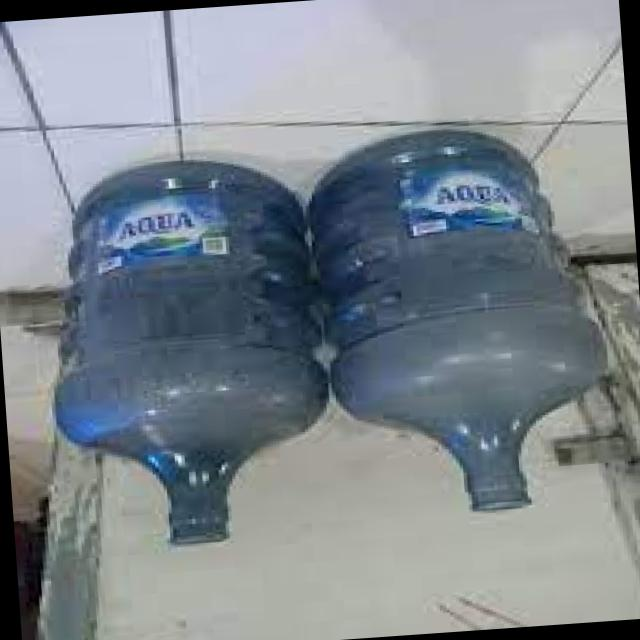Galon: (304, 119, 621, 526), (35, 150, 342, 558)
